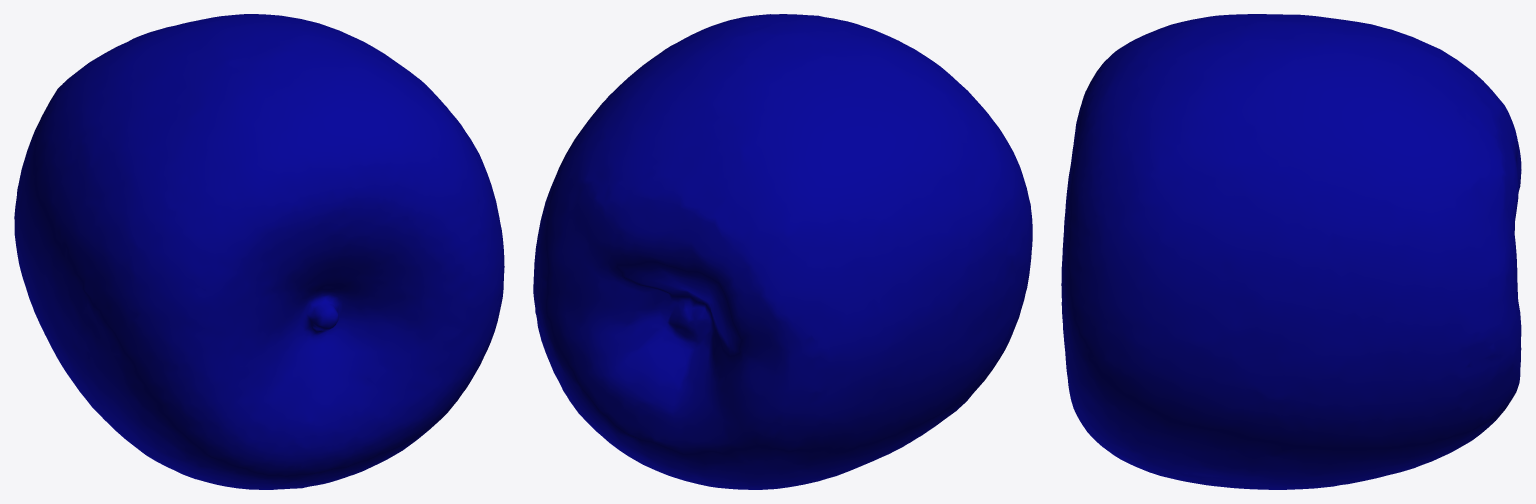
3 renders of one model, left to right at view 1: azimuth 30°, elevation 25°; view 2: azimuth 150°, elevation 25°; view 3: azimuth 270°, elevation 25°, orthographic. The views are drawn at different scales.
Bounding box in the file's own units: 0.0754 × 0.0749 × 0.0719.
